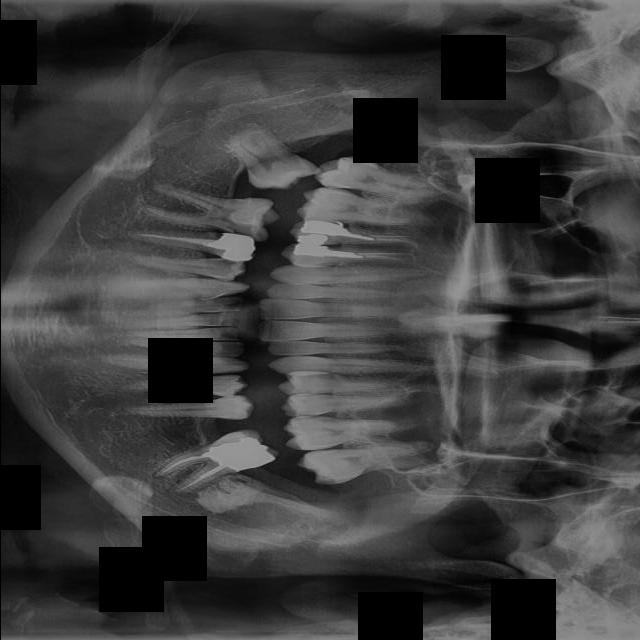71: (197, 462, 228, 479), (324, 250, 366, 259), (342, 233, 375, 242)
74: (156, 451, 208, 474), (142, 235, 214, 246), (174, 476, 203, 491), (362, 255, 401, 260), (356, 253, 408, 256), (376, 238, 409, 242), (370, 235, 411, 238)
NucleOSS Implant: (204, 433, 274, 481), (207, 230, 256, 263), (300, 219, 349, 237), (292, 244, 329, 257), (296, 233, 327, 244)
Sterngold Implant: (227, 219, 269, 240), (208, 260, 239, 269), (315, 416, 340, 426), (341, 157, 369, 164)
